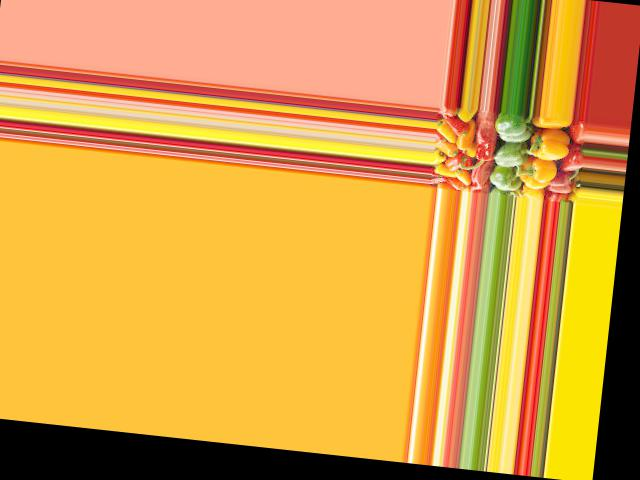bell_pepper: (440, 112, 469, 137)
